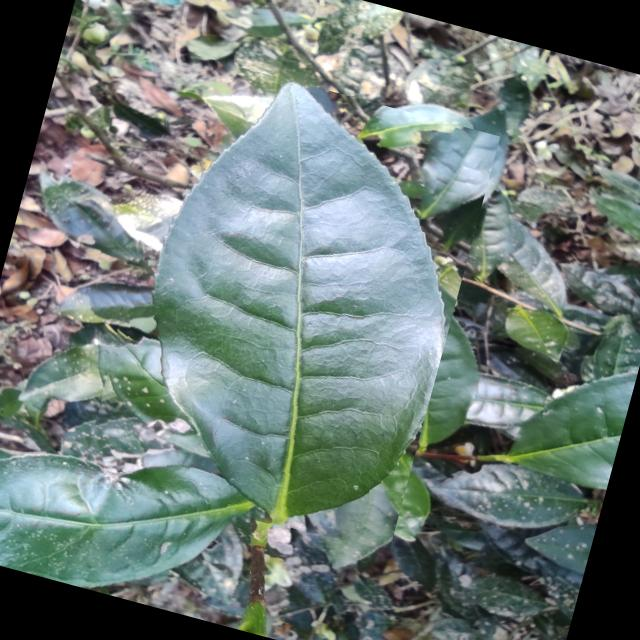Category D(7+ days, Not for Tea): (69, 51, 500, 564)
